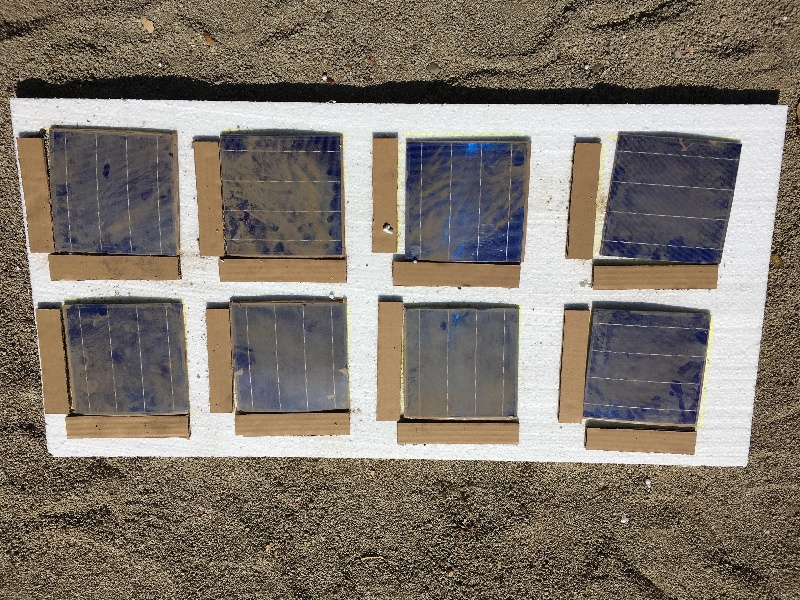dirty: (42, 124, 192, 263), (596, 134, 742, 263), (393, 299, 531, 427), (216, 134, 350, 259), (581, 307, 709, 429), (228, 297, 358, 415), (56, 304, 190, 416)
